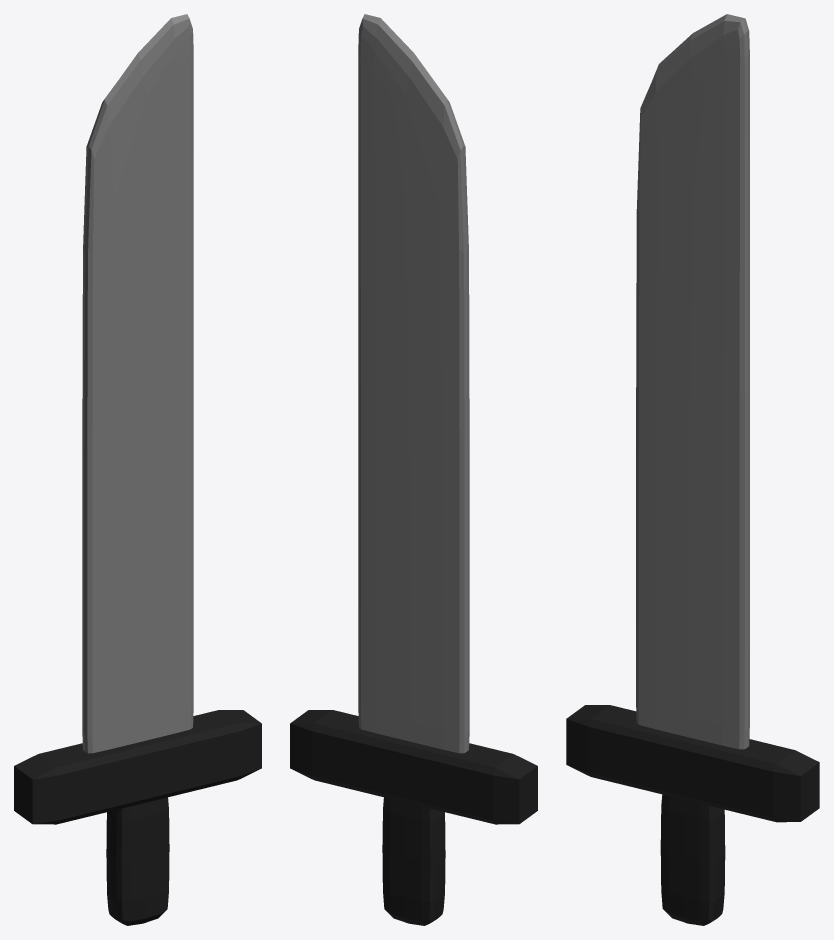
Rendered from Sword.fbx.
3 views of the same model, side by side, from view 1: azimuth 30°, elevation 25°; view 2: azimuth 150°, elevation 25°; view 3: azimuth 330°, elevation 25° (orthographic). The views are drawn at different scales.
Parts seen in each view (by area): view 1: Sword; view 2: Sword; view 3: Sword.
Boxes of the visible parts, x1,y1,x2,y2 form: Sword: (14, 14, 261, 925); Sword: (290, 14, 537, 925); Sword: (566, 14, 819, 925).
Bounding box in the file's own units: 842 × 3144 × 149.
Materials: 1 (1 with a texture image).
